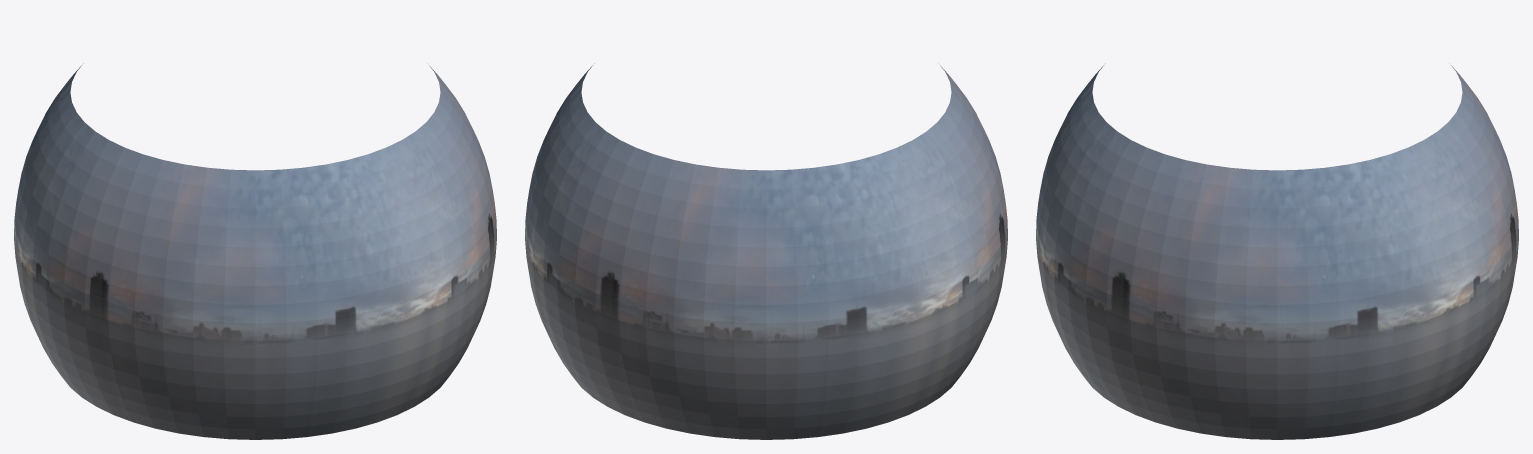
Rendered from z-exterior.light.bd58e3bc.glb.
3 views of the same model, side by side, from view 1: azimuth 30°, elevation 25°; view 2: azimuth 150°, elevation 25°; view 3: azimuth 270°, elevation 25° (orthographic).
Parts seen in each view (by area): view 1: exterior_city; view 2: exterior_city; view 3: exterior_city.
Boxes of the visible parts, box(x1,y1,x2,y2) form: exterior_city: box(14, 63, 496, 439); exterior_city: box(525, 63, 1007, 439); exterior_city: box(1036, 63, 1518, 439).
Size of the model in its own units: 800 by 481 by 800.
Materials: 1 (1 with a texture image).
